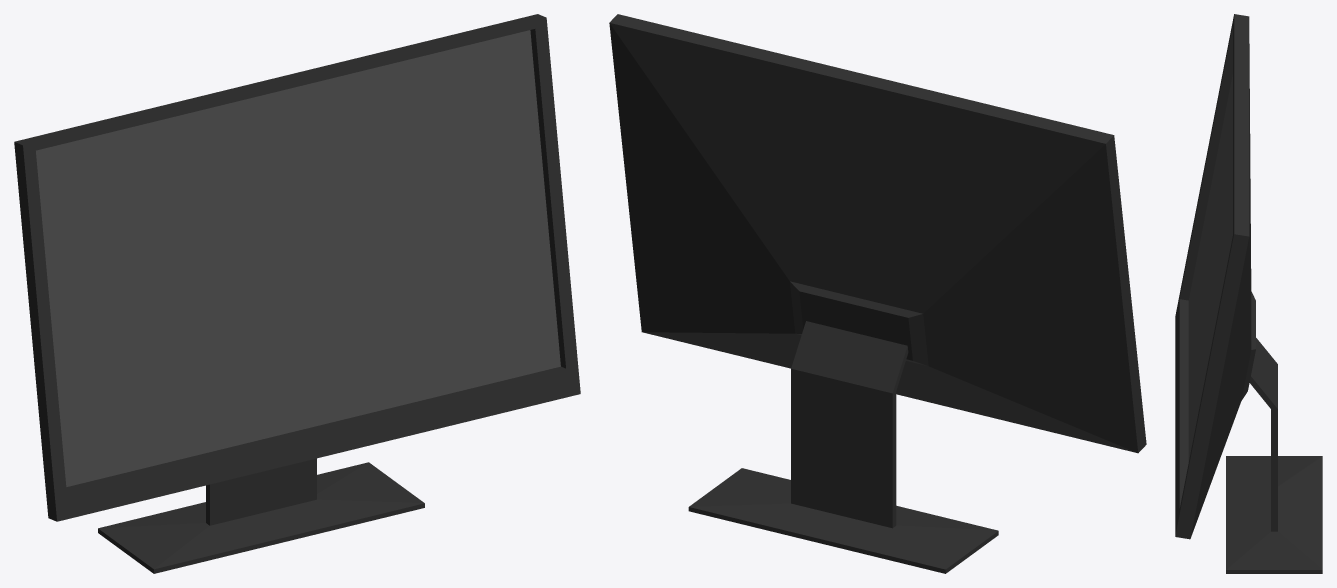
Rendered from monitor.fbx.
3 renders of one model, left to right at view 1: azimuth 30°, elevation 25°; view 2: azimuth 150°, elevation 25°; view 3: azimuth 270°, elevation 25°, orthographic. The views are drawn at different scales.
Visible parts, largest first — view 1: monitor; view 2: monitor; view 3: monitor.
Part boxes in pixels (box(x1,y1,x2,y2)): monitor: box(14, 14, 580, 573); monitor: box(609, 14, 1146, 573); monitor: box(1175, 14, 1322, 573).
Size of the model in its own units: 1.3 by 1.08 by 0.3673.
Materials: 1 (1 with a texture image).
